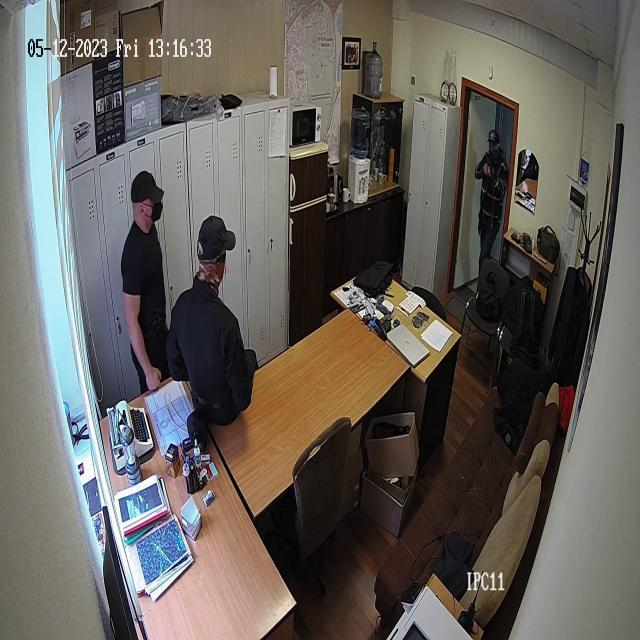pistol: (484, 156, 498, 185), (511, 228, 522, 245)
